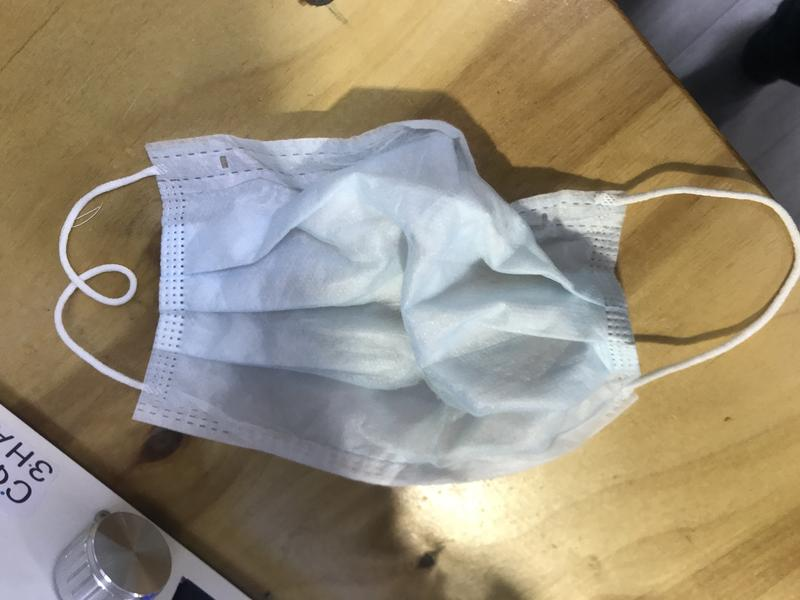medical_mask: (54, 121, 800, 487)
